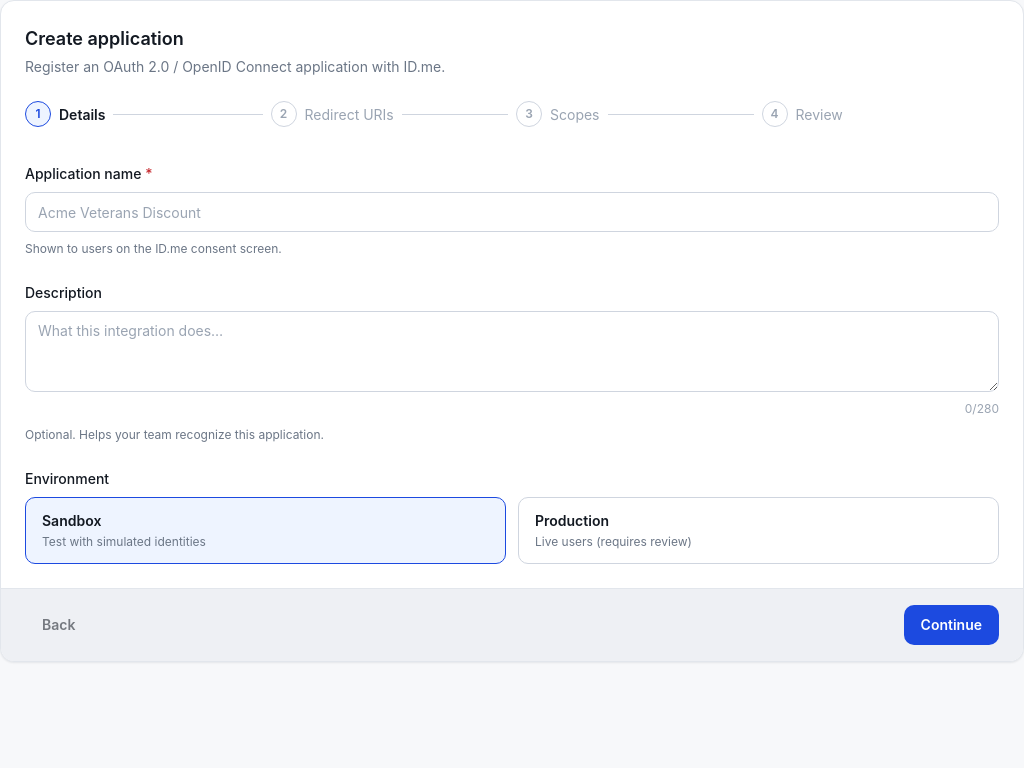
Test case: CreateApplicationWizard › blocks Continue and shows an error on an invalid step
This screenshot has width=1024, height=768.
Click the button "Continue" at {"x": 951, "y": 625}, box [904,605,999,645]
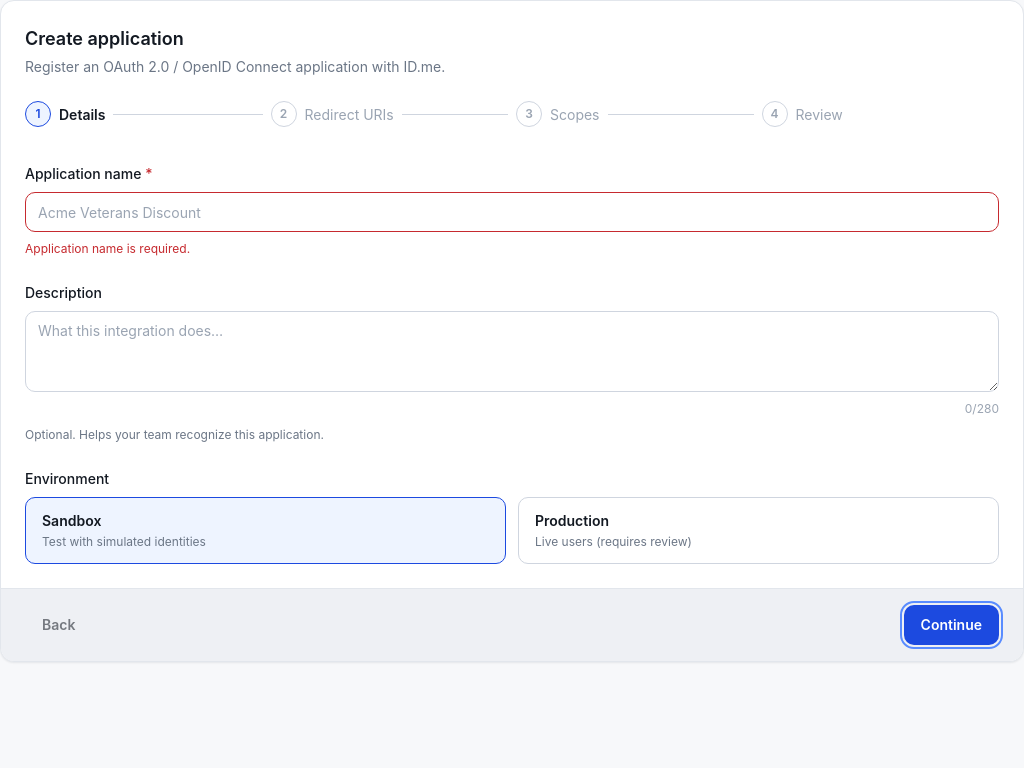
Expected: the text "Application name is required." is shown, [25,241,190,256]
